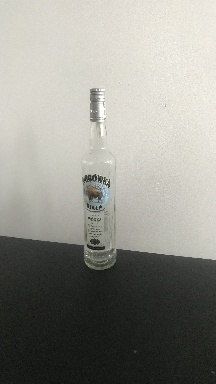butelka: (79, 84, 117, 272)
